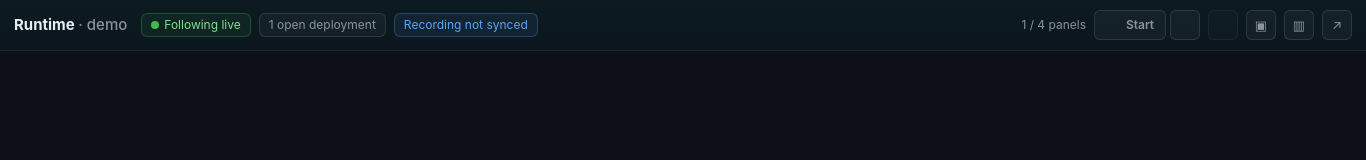
RuntimeWorkbenchHeader › renders a single Start button plus a start options menu for the active deployment
This screenshot has width=1366, height=160.
Expected: the button with test id "start-deployment" is shown, 1094,10 -> 1166,40
Click the button with test id "start-menu-toggle" at [1185, 25], box 1170,10 -> 1200,40
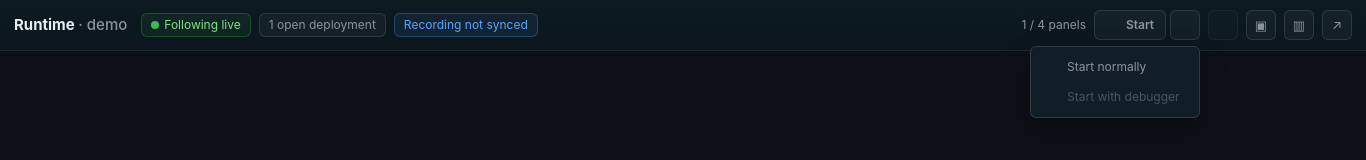
Result: the element with test id "start-menu" is shown at 1030,46 -> 1200,118
Result: the button with test id "start-normal" is shown at 1036,52 -> 1194,82
Result: the button with test id "start-debug" is shown at 1036,82 -> 1194,112
